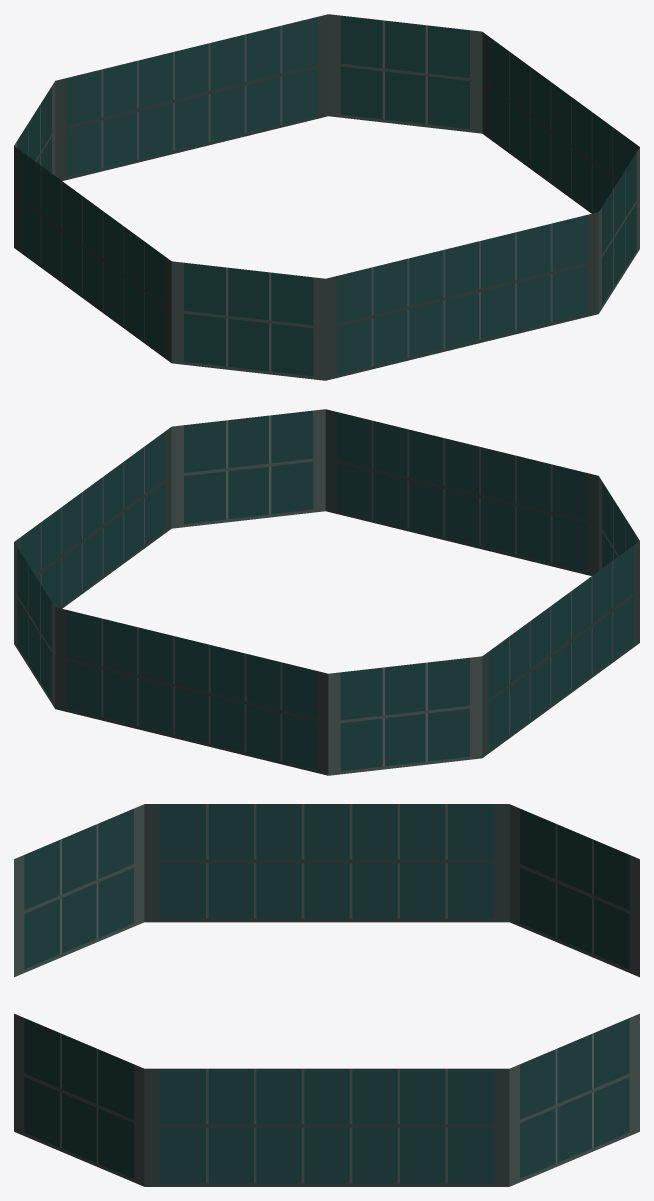
File: TB_CITY_Skysc_R_UpperBodyA_Green.FBX
3 views of the same model, one above another, from view 1: azimuth 30°, elevation 25°; view 2: azimuth 150°, elevation 25°; view 3: azimuth 270°, elevation 25° (orthographic). The views are drawn at different scales.
Visible parts, largest first — view 1: TB_CITY_Skysc_R_UpperBodyA_Green; view 2: TB_CITY_Skysc_R_UpperBodyA_Green; view 3: TB_CITY_Skysc_R_UpperBodyA_Green.
Part boxes in pixels (box(x1,y1,x2,y2)): TB_CITY_Skysc_R_UpperBodyA_Green: box(14, 14, 639, 380); TB_CITY_Skysc_R_UpperBodyA_Green: box(14, 409, 639, 775); TB_CITY_Skysc_R_UpperBodyA_Green: box(14, 804, 639, 1186).
Bounding box in the file's own units: 13.3 × 2.77 × 13.3.
